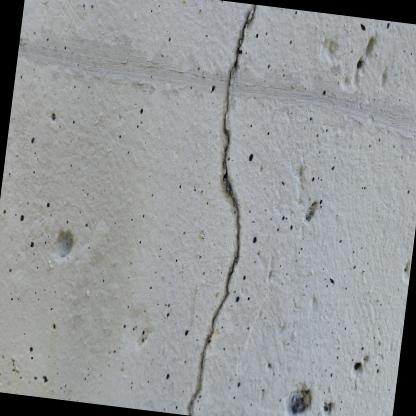crack: (188, 4, 255, 416)
